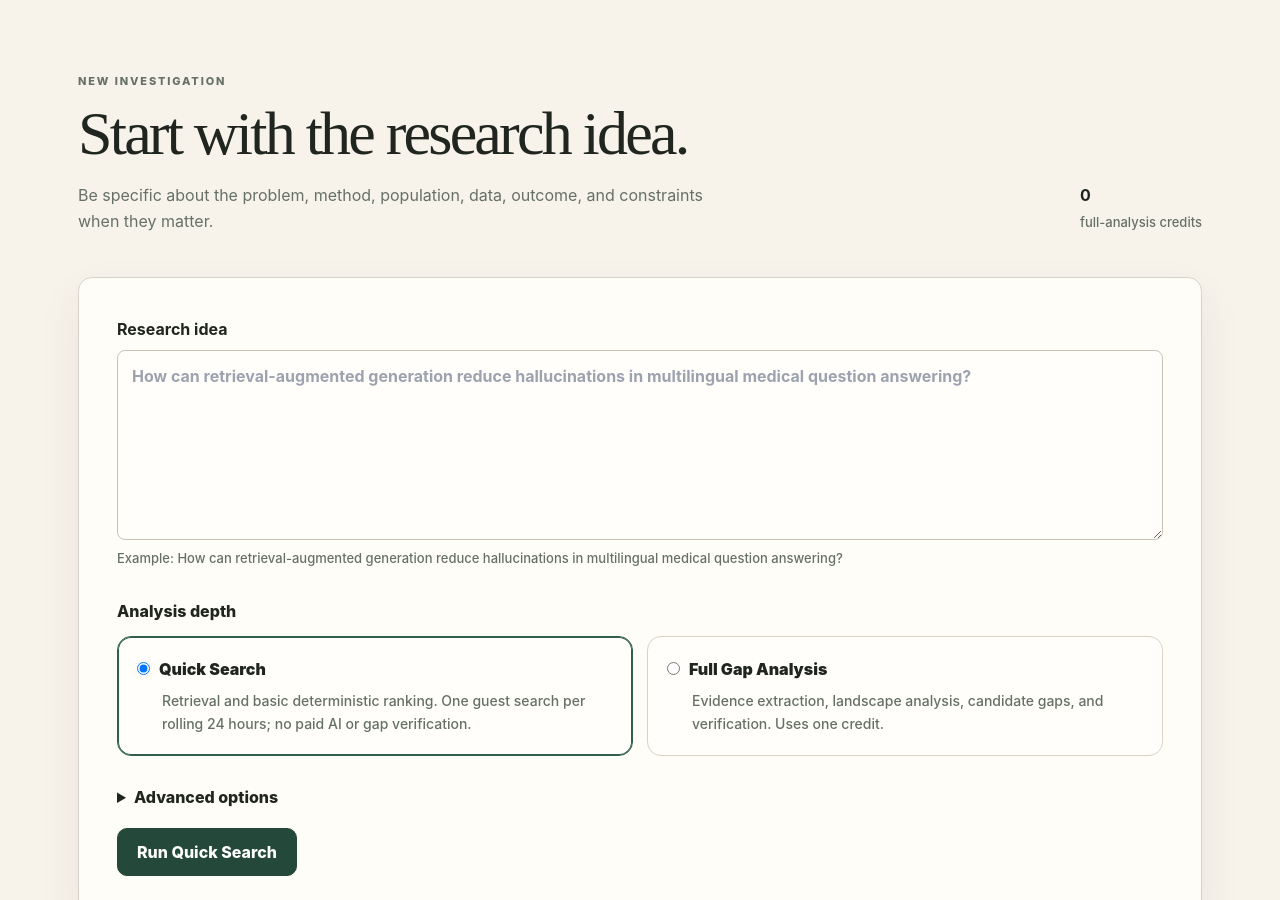
Test: analysis form › keeps an ordinary zero-credit user blocked
Click the radio button labelled "Full Gap Analysis".
click(674, 668)  # box [667,662,680,675]
(page scrolled)
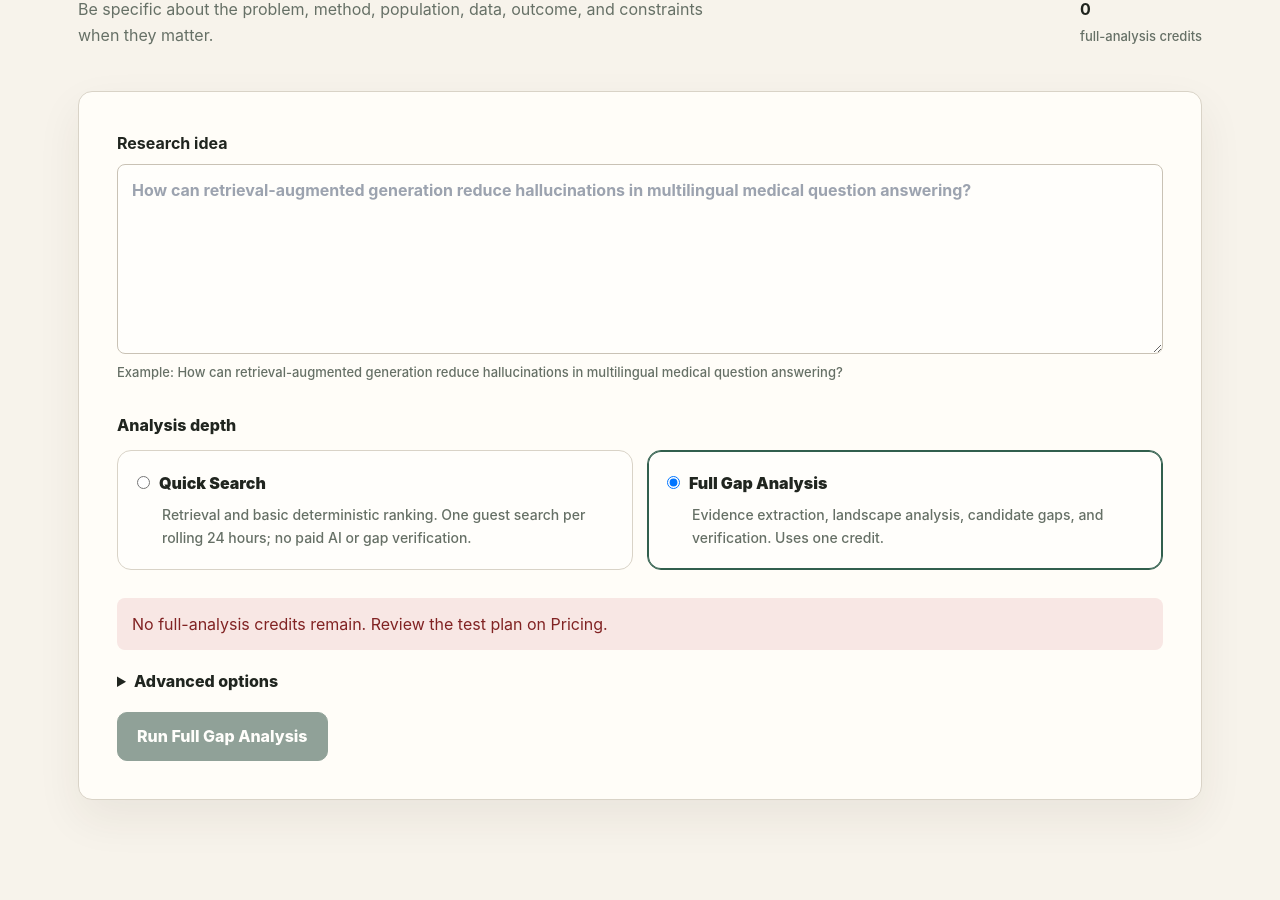
Check: the message shows "No full-analysis credits remain", box [132,614,608,634]
Check: the button "Run Full Gap Analysis" is disabled, box [117,712,328,761]
